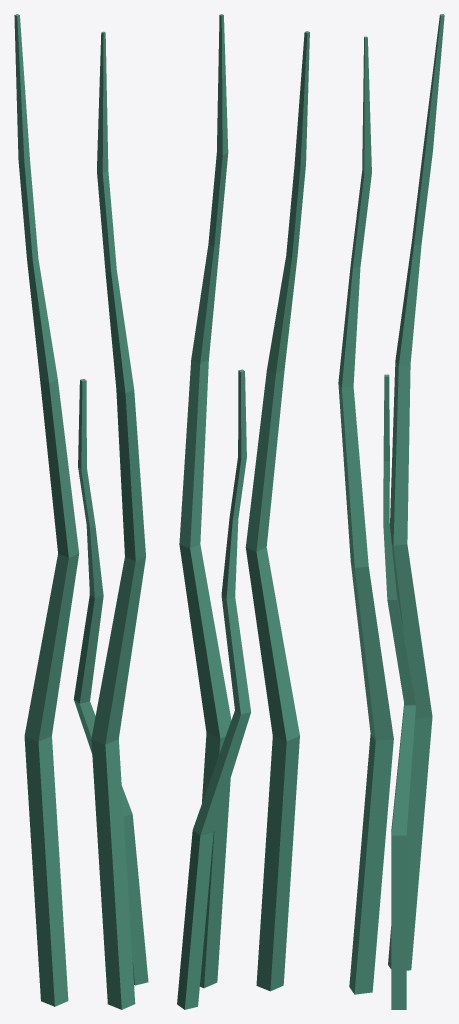
File: AO_Plant04.fbx
3 views of the same model, side by side, from view 1: azimuth 30°, elevation 25°; view 2: azimuth 210°, elevation 25°; view 3: azimuth 270°, elevation 25° (orthographic). The views are drawn at different scales.
Visible parts, largest first — view 1: AO_Plant04; view 2: AO_Plant04; view 3: AO_Plant04.
Boxes of the visible parts, x1,y1,x2,y2 form: AO_Plant04: [14, 14, 148, 1009]; AO_Plant04: [177, 14, 309, 1009]; AO_Plant04: [338, 14, 444, 1009].
Bounding box in the file's own units: 29.22 × 248 × 25.21.
1 material, 1 textured.
